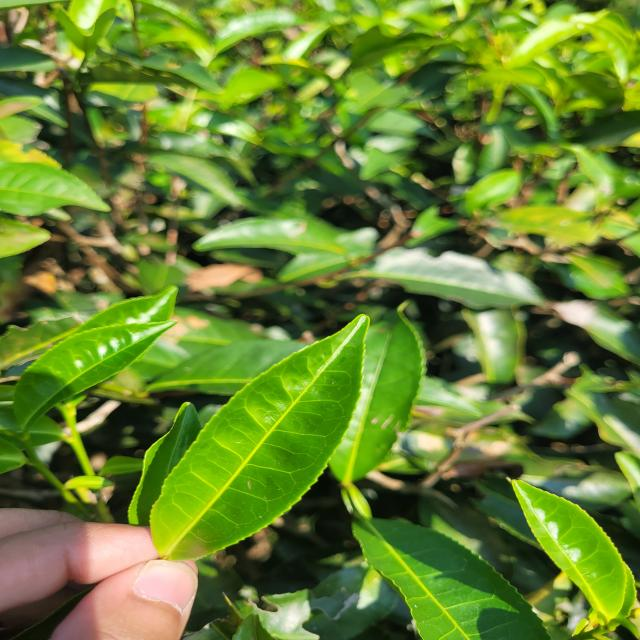Catagory A(1-2 days): (136, 306, 379, 586)
